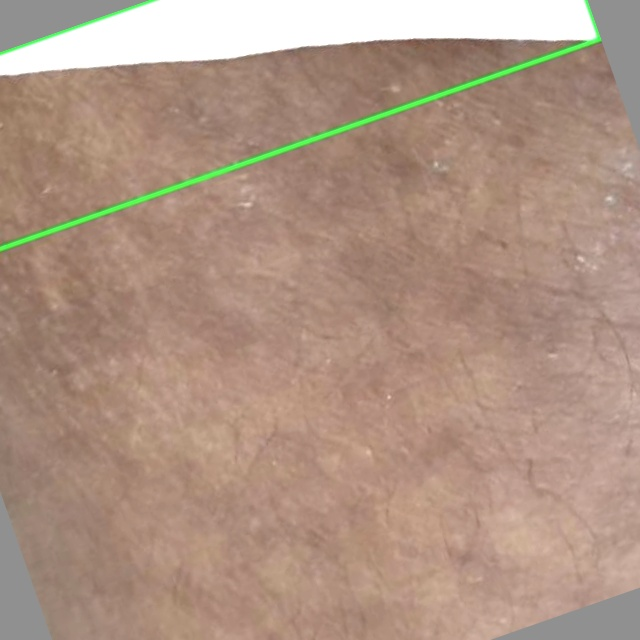Contact Dermatitis: (0, 0, 599, 248)
